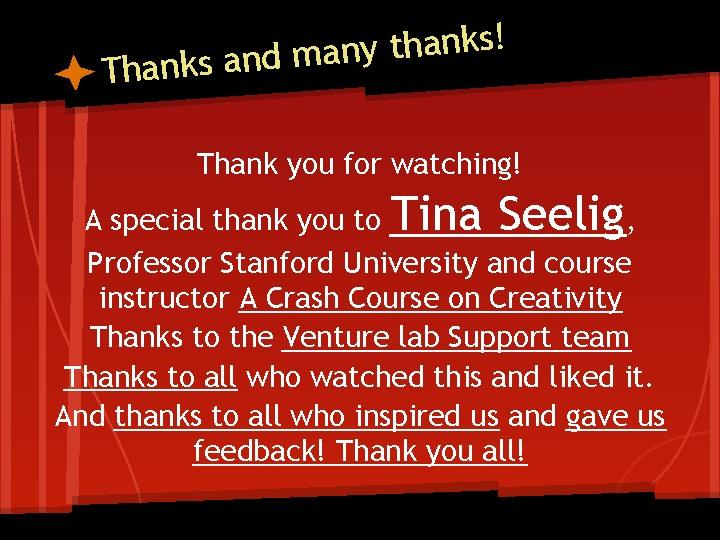paragraph: (51, 132, 690, 481)
title: (45, 11, 516, 95)
